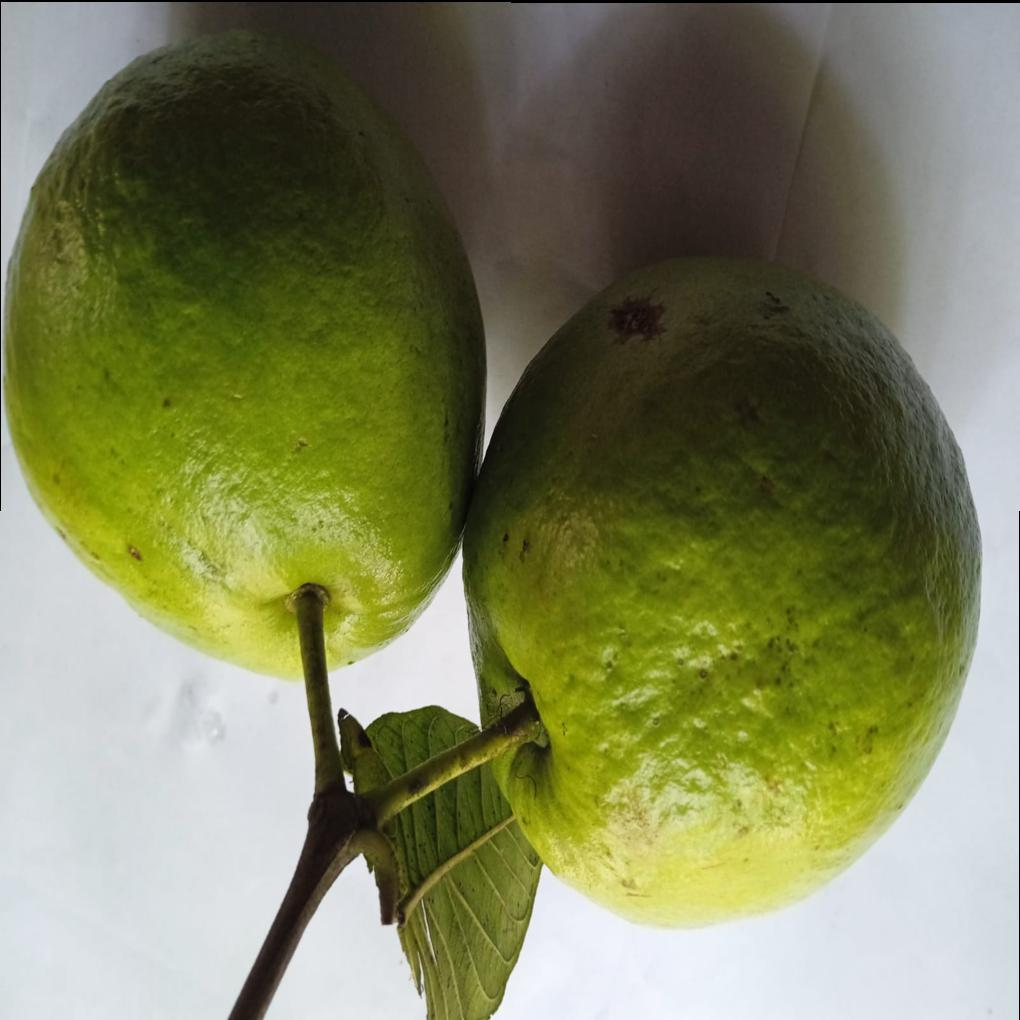FreshGuava: (0, 29, 983, 1020)
